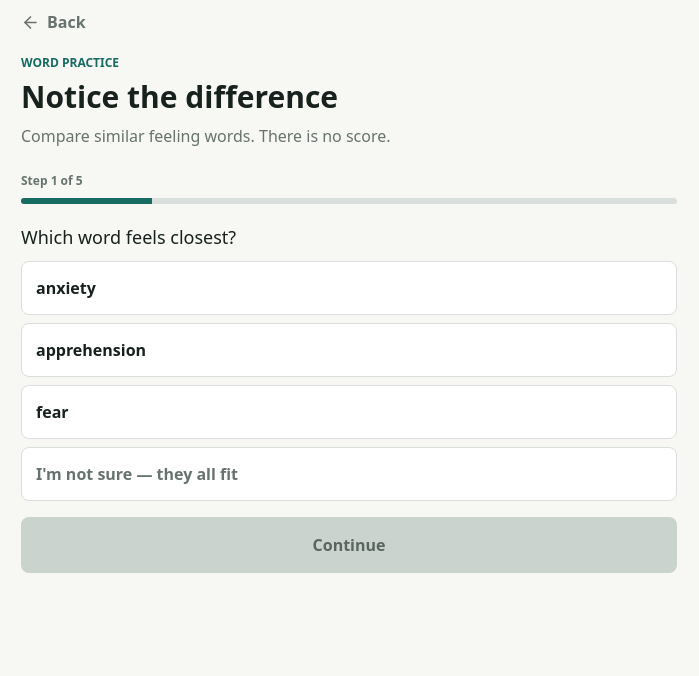
it: GranularityTraining › shows dedicated non-judgmental feedback for not-sure path
This screenshot has width=699, height=676.
Click the button "I'm not sure — they all fit" at (137, 474), box [21,447,677,501]
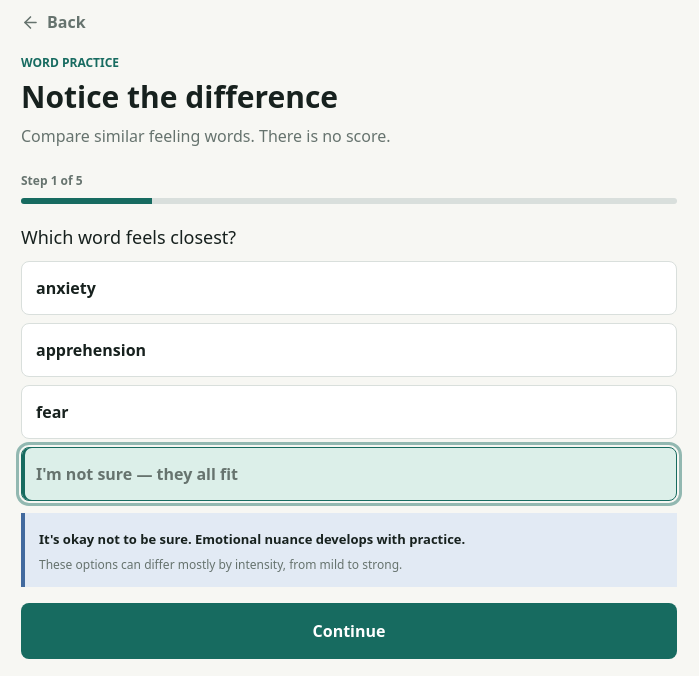
Expected: the text "It's okay not to be sure" is shown, [39,530,465,548]
Expected: the button "Continue" is enabled, [21,603,677,659]
